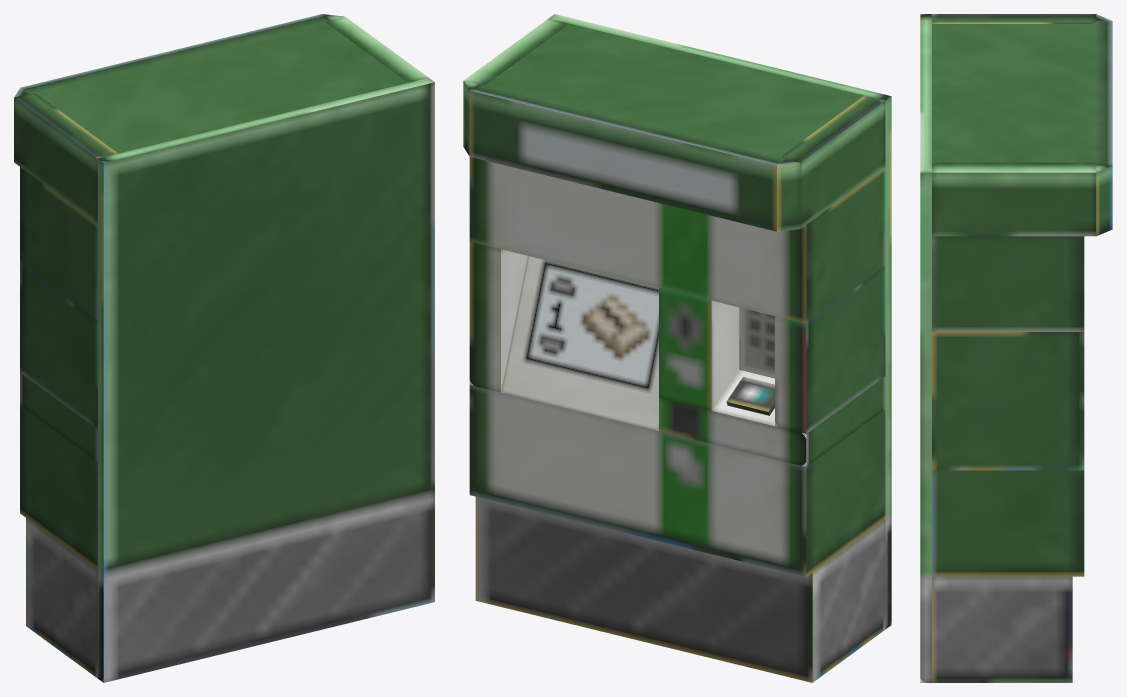
The model's file is vvr_fahrkartenautomat.obj.
3 renders of one model, left to right at view 1: azimuth 30°, elevation 25°; view 2: azimuth 150°, elevation 25°; view 3: azimuth 270°, elevation 25°, orthographic. The views are drawn at different scales.
Parts seen in each view (by area): view 1: cube; view 2: cube; view 3: cube.
Boxes of the visible parts, x1=… form: cube: x1=14, y1=14, x2=434, y2=682; cube: x1=463, y1=14, x2=891, y2=682; cube: x1=920, y1=14, x2=1112, y2=682.
Size of the model in its own units: 2 by 3 by 1.03.
